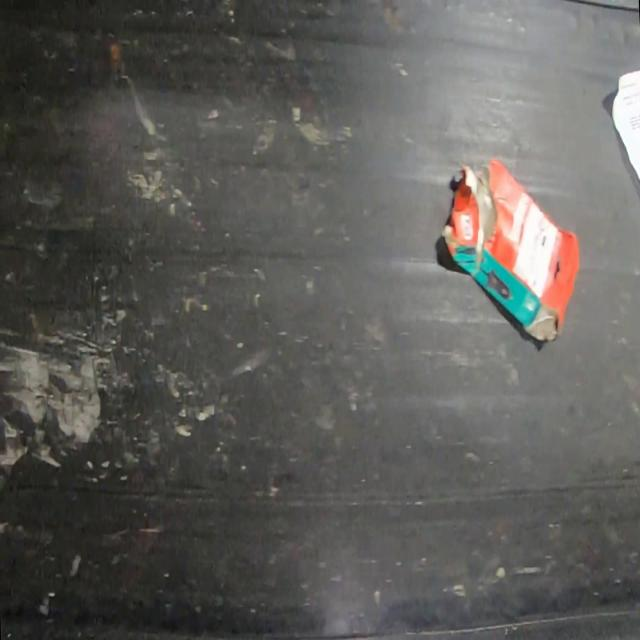cardboard: (440, 155, 579, 341)
